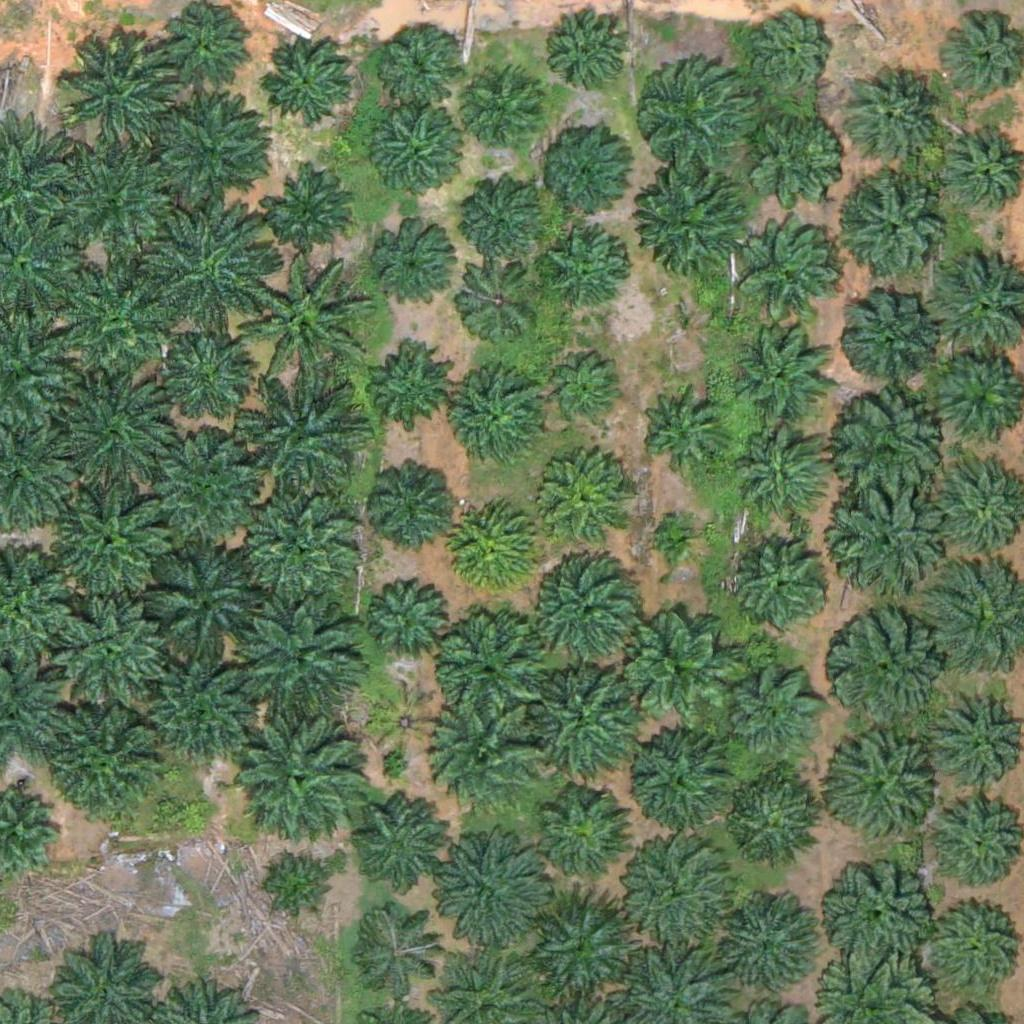Kelapa_Sawit: (59, 28, 184, 154), (51, 136, 176, 262), (56, 264, 181, 390), (56, 376, 181, 502), (50, 486, 175, 612), (44, 699, 169, 825), (141, 207, 266, 333), (141, 433, 266, 559), (138, 540, 263, 666), (139, 649, 264, 775), (233, 604, 358, 730), (241, 716, 366, 842), (241, 376, 366, 502), (238, 260, 363, 386), (420, 692, 545, 818), (526, 548, 651, 674), (523, 664, 648, 790), (618, 604, 743, 730), (635, 54, 760, 180), (421, 828, 546, 954), (40, 584, 165, 709), (145, 86, 270, 211), (236, 479, 361, 604), (827, 486, 940, 599), (433, 606, 545, 720), (840, 175, 952, 288), (833, 394, 945, 507), (842, 67, 942, 168), (829, 610, 929, 711), (535, 786, 635, 887), (628, 731, 728, 832), (723, 669, 823, 770), (734, 534, 834, 635), (734, 430, 834, 531), (729, 324, 829, 425), (744, 221, 844, 322), (647, 172, 747, 273), (627, 847, 727, 948), (830, 863, 930, 964), (838, 287, 938, 387), (346, 790, 446, 890), (451, 372, 551, 472), (748, 99, 848, 199), (835, 732, 935, 832), (338, 906, 438, 1006), (534, 910, 634, 1010), (719, 901, 819, 1001), (935, 127, 1023, 215), (166, 332, 254, 420), (369, 111, 457, 199), (374, 226, 462, 314), (362, 338, 450, 426), (366, 455, 454, 543), (452, 503, 540, 591), (538, 461, 626, 549), (736, 783, 824, 871), (266, 164, 353, 253), (540, 127, 627, 216), (372, 19, 459, 107), (459, 173, 546, 261), (163, 9, 250, 97), (261, 35, 348, 123), (365, 574, 452, 662), (454, 254, 541, 342), (462, 65, 549, 153), (548, 8, 635, 96), (545, 235, 632, 323), (749, 12, 836, 100), (639, 385, 726, 473), (255, 851, 330, 927), (550, 351, 625, 426), (372, 687, 434, 750), (652, 510, 702, 560)
